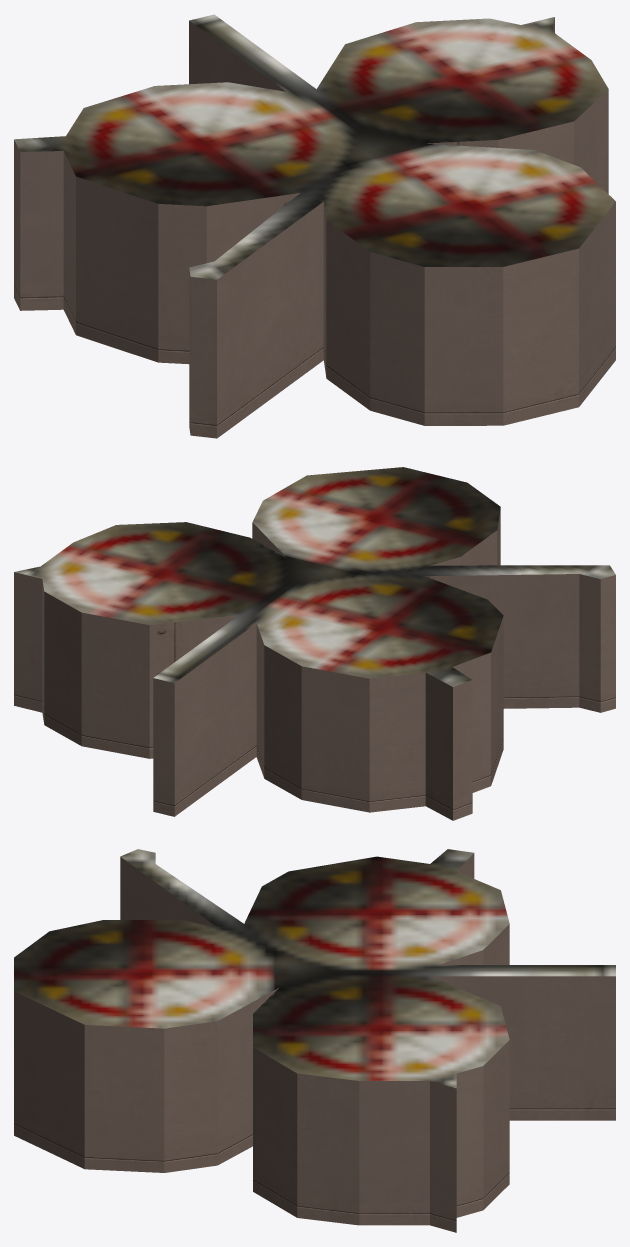
File: fuel_tank_medium_51.glb
3 views of the same model, one above another, from view 1: azimuth 30°, elevation 25°; view 2: azimuth 150°, elevation 25°; view 3: azimuth 270°, elevation 25° (orthographic). The views are drawn at different scales.
Visible parts, largest first — view 1: buildings/saxarba/fuel_tanks/fuel_tank_medium_51; view 2: buildings/saxarba/fuel_tanks/fuel_tank_medium_51; view 3: buildings/saxarba/fuel_tanks/fuel_tank_medium_51.
Part boxes in pixels (<box>): buildings/saxarba/fuel_tanks/fuel_tank_medium_51: <box>14,14,615,438</box>; buildings/saxarba/fuel_tanks/fuel_tank_medium_51: <box>14,467,615,820</box>; buildings/saxarba/fuel_tanks/fuel_tank_medium_51: <box>14,849,615,1232</box>.
Bounding box in the file's own units: 64 × 18 × 68.
